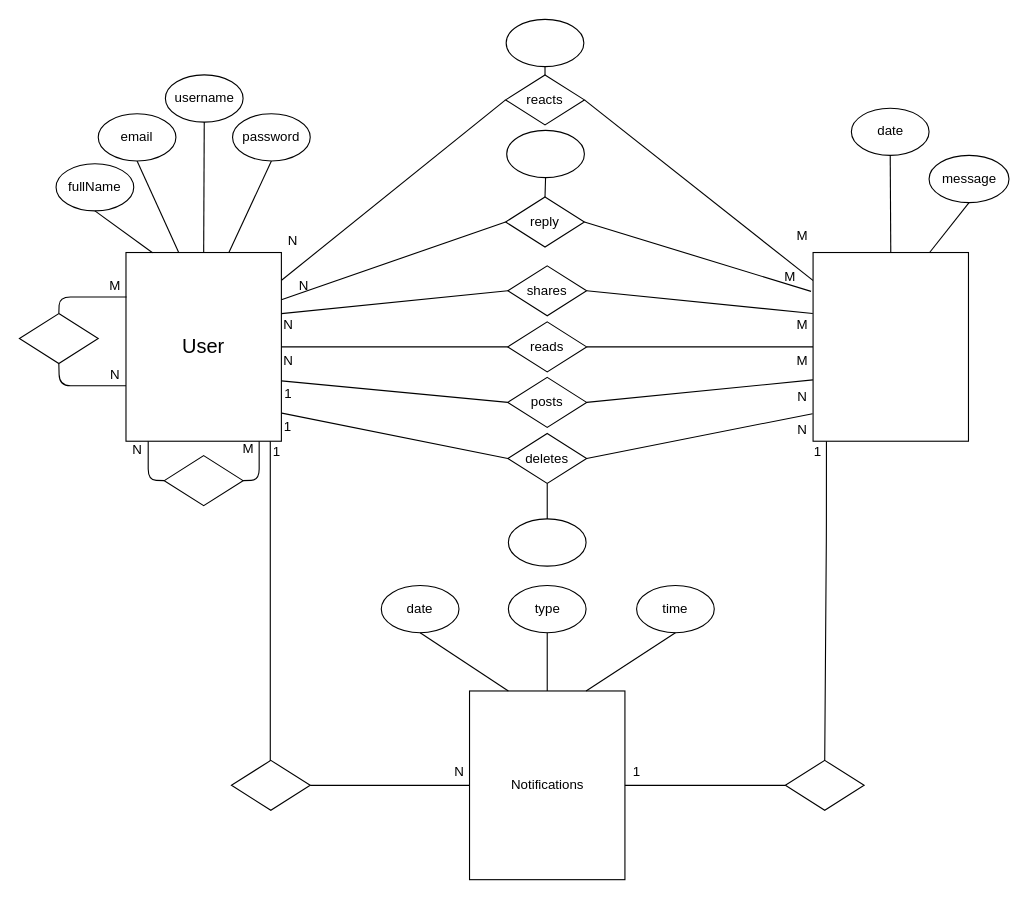
Some shapes in this 1029 by 899 pixel diagram are drawn without their labels. Each missing label, with the box of its shape:
block: (163, 455, 243, 506)
follows: (18, 312, 98, 364)
Have: (230, 759, 310, 810)
isDeleted: (507, 518, 586, 566)
isLiked: (505, 18, 584, 67)
Messages: (812, 251, 968, 441)
notifies: (784, 759, 864, 810)
rmessage: (506, 129, 584, 178)
